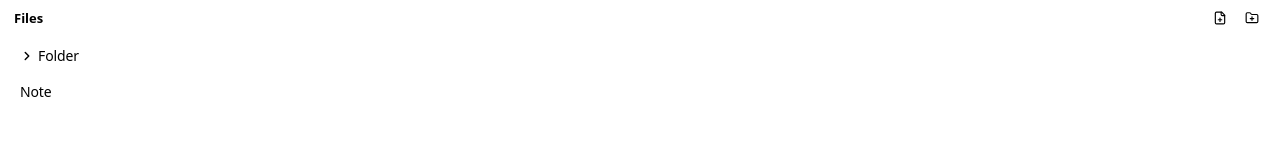
Test: FileSidebar layout › uses the same depth contract for inline creation rows
Step 1. Click the button named "New Folder" → (1252, 18), box [1238,4,1266,32]
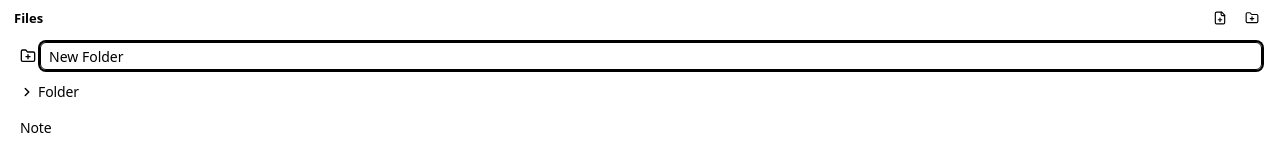
expect the 2nd element showing "New Folder" is shown: met, box [10,38,1270,74]
